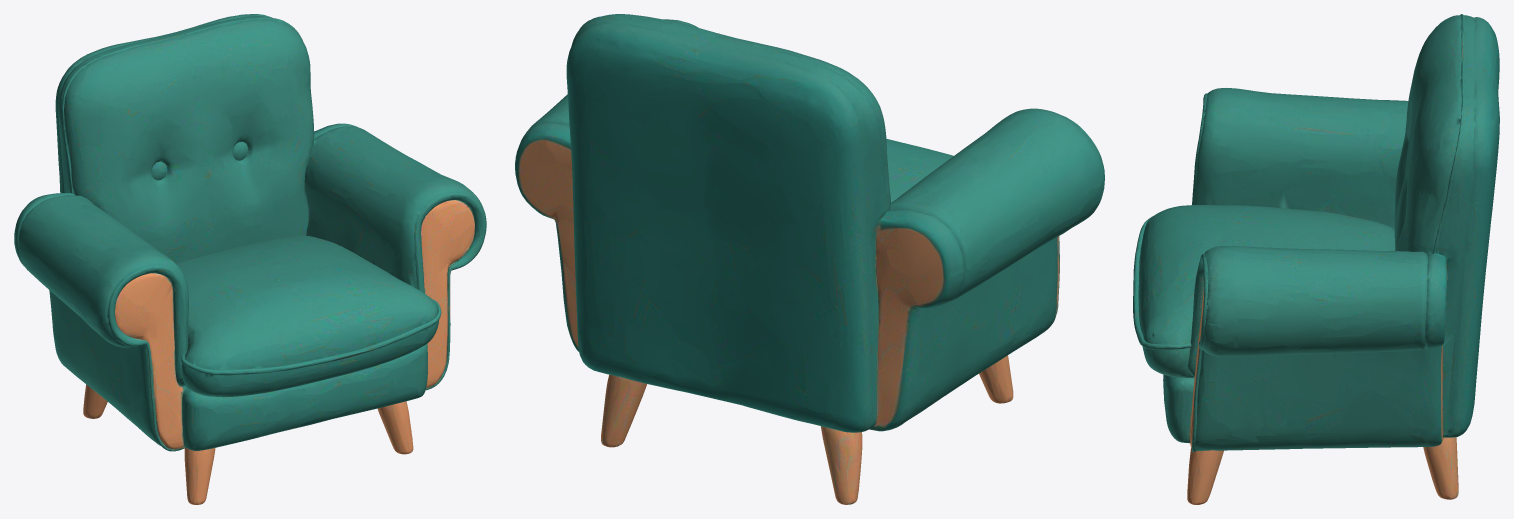
Rendered from armchair.glb.
The picture shows the model from 3 angles, left to right: view 1: azimuth 30°, elevation 25°; view 2: azimuth 150°, elevation 25°; view 3: azimuth 270°, elevation 25°; orthographic projection. The views are drawn at different scales.
Bounding box in the file's own units: 1.9 × 1.67 × 1.42.
1 material, 1 textured.
